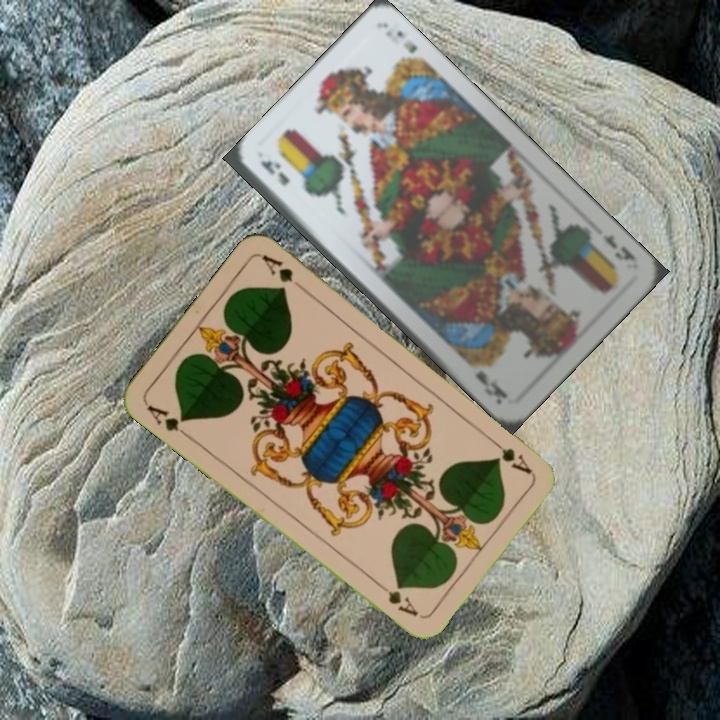EK: (598, 230, 641, 266), (256, 156, 292, 189)
GA: (485, 434, 535, 477), (142, 400, 193, 442)
